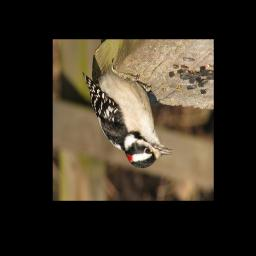Woodpecker: (81, 58, 174, 168)
